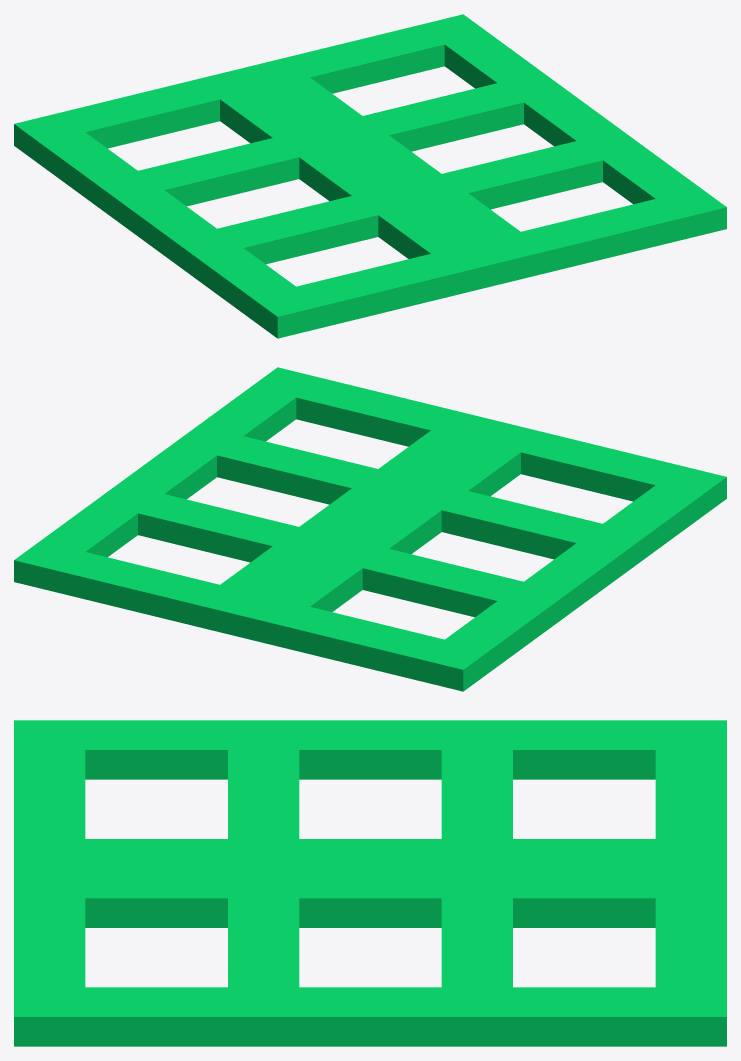
File: SM_Grate.fbx
3 renders of one model, top to bottom at view 1: azimuth 30°, elevation 25°; view 2: azimuth 150°, elevation 25°; view 3: azimuth 270°, elevation 25°, orthographic. The views are drawn at different scales.
Parts seen in each view (by area): view 1: SM_Grate; view 2: SM_Grate; view 3: SM_Grate.
Boxes of the visible parts, left/top/right/bottom form: SM_Grate: left=14, top=14, right=726, bottom=338; SM_Grate: left=14, top=367, right=726, bottom=691; SM_Grate: left=14, top=720, right=726, bottom=1046.
Bounding box in the file's own units: 61.07 × 2.83 × 62.06.
